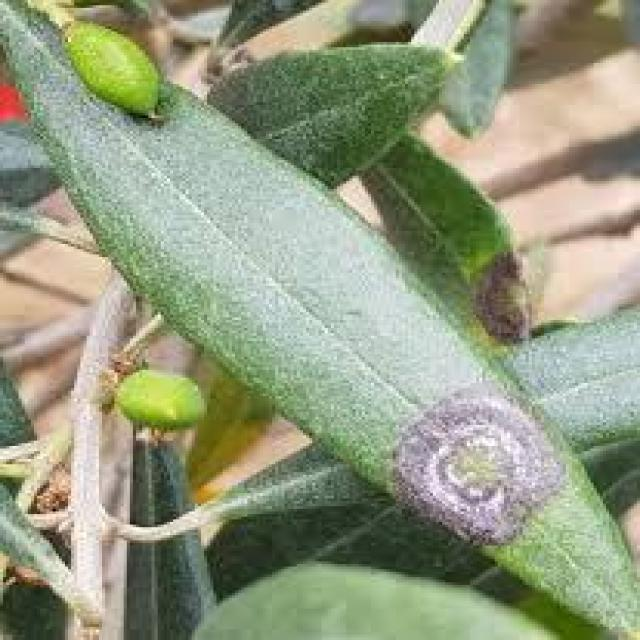Peacock Eye: (0, 0, 637, 637)
